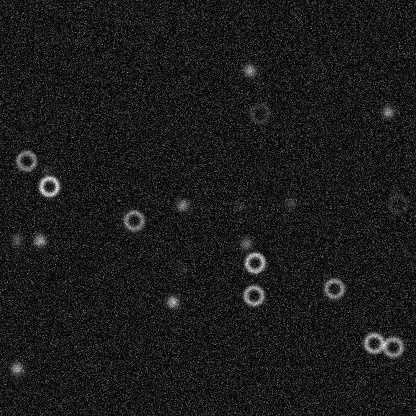Ring: (37, 174, 61, 198), (241, 283, 265, 307), (321, 276, 345, 300), (242, 250, 266, 274), (380, 334, 404, 358), (14, 148, 38, 172), (361, 330, 385, 354), (385, 191, 409, 215), (247, 101, 271, 125), (121, 208, 145, 232)
Spot: (174, 197, 190, 213), (230, 197, 246, 213), (38, 162, 54, 178), (31, 232, 47, 248), (282, 195, 298, 211), (379, 103, 395, 119), (8, 360, 24, 376), (237, 235, 253, 251), (8, 231, 24, 247), (164, 293, 180, 309), (173, 261, 189, 277), (241, 62, 257, 78)
